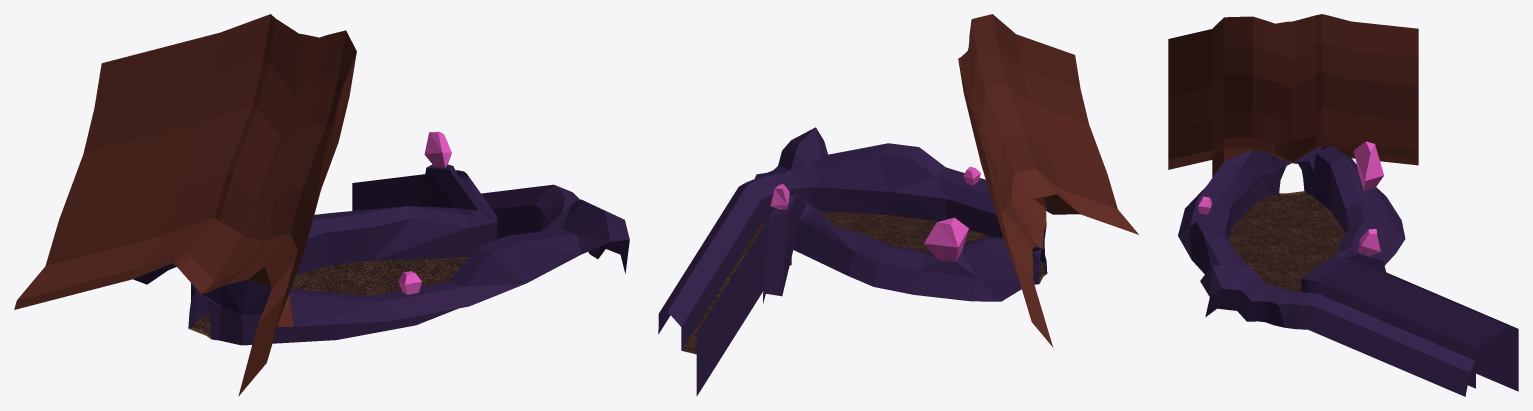
The model's file is Bosque De Hongos.fbx.
3 renders of one model, left to right at view 1: azimuth 30°, elevation 25°; view 2: azimuth 150°, elevation 25°; view 3: azimuth 270°, elevation 25°, orthographic. The views are drawn at different scales.
Parts seen in each view (by area): view 1: Bosque De Hongos; view 2: Bosque De Hongos; view 3: Bosque De Hongos.
Boxes of the visible parts, x1,y1,x2,y2 form: Bosque De Hongos: [14, 14, 629, 396]; Bosque De Hongos: [658, 14, 1138, 396]; Bosque De Hongos: [1168, 14, 1518, 396].
Size of the model in its own units: 93445 by 77186 by 74874.
5 materials, 2 textured.
